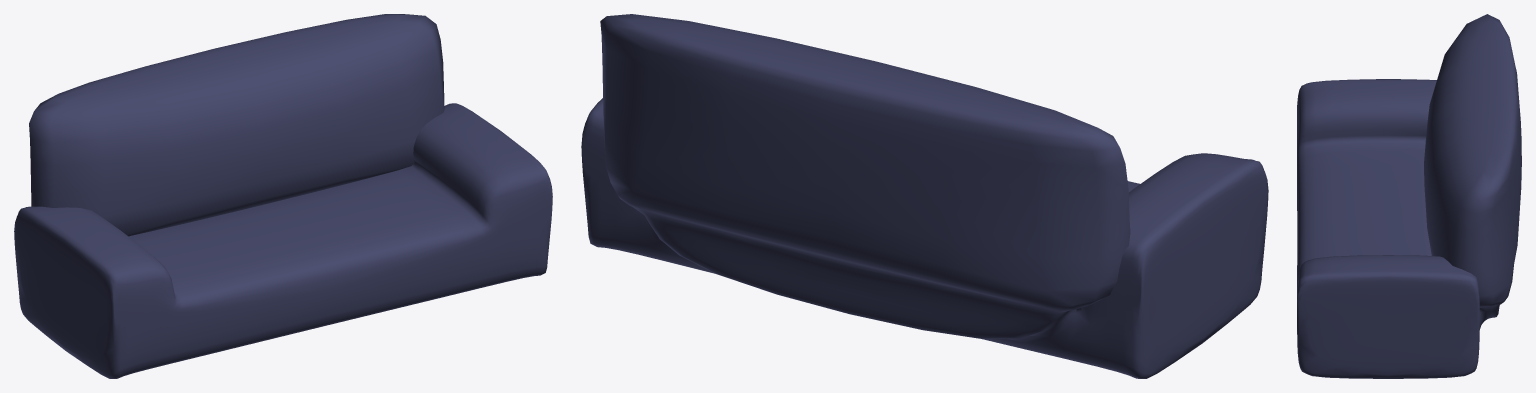
The model's file is Sofa.fbx.
3 views of the same model, side by side, from view 1: azimuth 30°, elevation 25°; view 2: azimuth 150°, elevation 25°; view 3: azimuth 270°, elevation 25° (orthographic). The views are drawn at different scales.
Visible parts, largest first — view 1: Cube; view 2: Cube; view 3: Cube.
Part boxes in pixels (box(x1,y1,x2,y2)): Cube: box(14, 14, 552, 378); Cube: box(581, 14, 1268, 378); Cube: box(1297, 14, 1521, 378).
Size of the model in its own units: 513 by 226 by 246.
